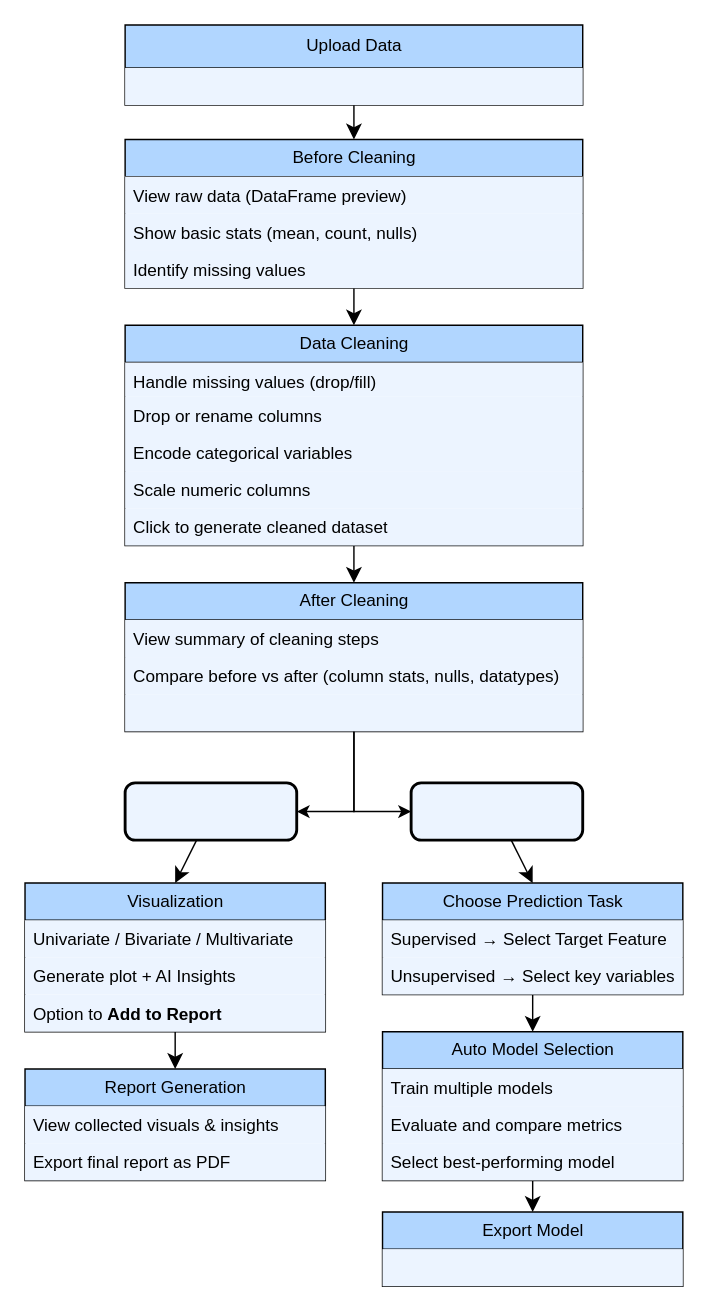
Image size: 708x1316. Some labels were removed from this diagram. The shapes that lost their labels are listed below. From the top down, each one's centre as x and y in pixels, then its label:
the point at 353,85: User uploads raw CSV file
the point at 353,712: Download cleaned data again (if needed)
the point at 210,811: Insight & Reporting (InsightLab)
the point at 496,811: ML Modeling (ModelLab - Future)
the point at 532,1267: Download .pkl file for deployment
